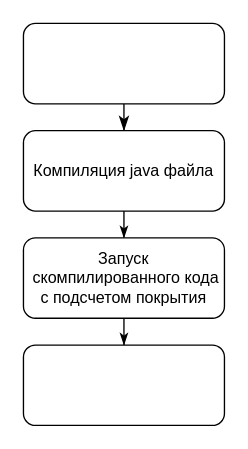
The diagram is 248 pixels wide and 449 high, and some of its shapes have lost their labels. Here are the shapes that lost their labels. From the top down, the box of each, then its label:
(22, 22, 224, 104): Генерация java файла из скелета тестового сценария
(22, 344, 224, 425): Вычисление коэффициента покрытия
